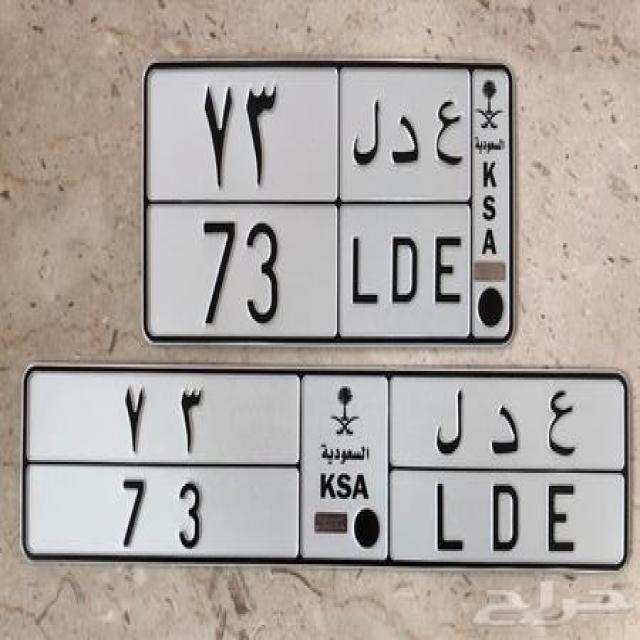license_plate: (21, 454, 634, 580), (142, 198, 476, 346)
